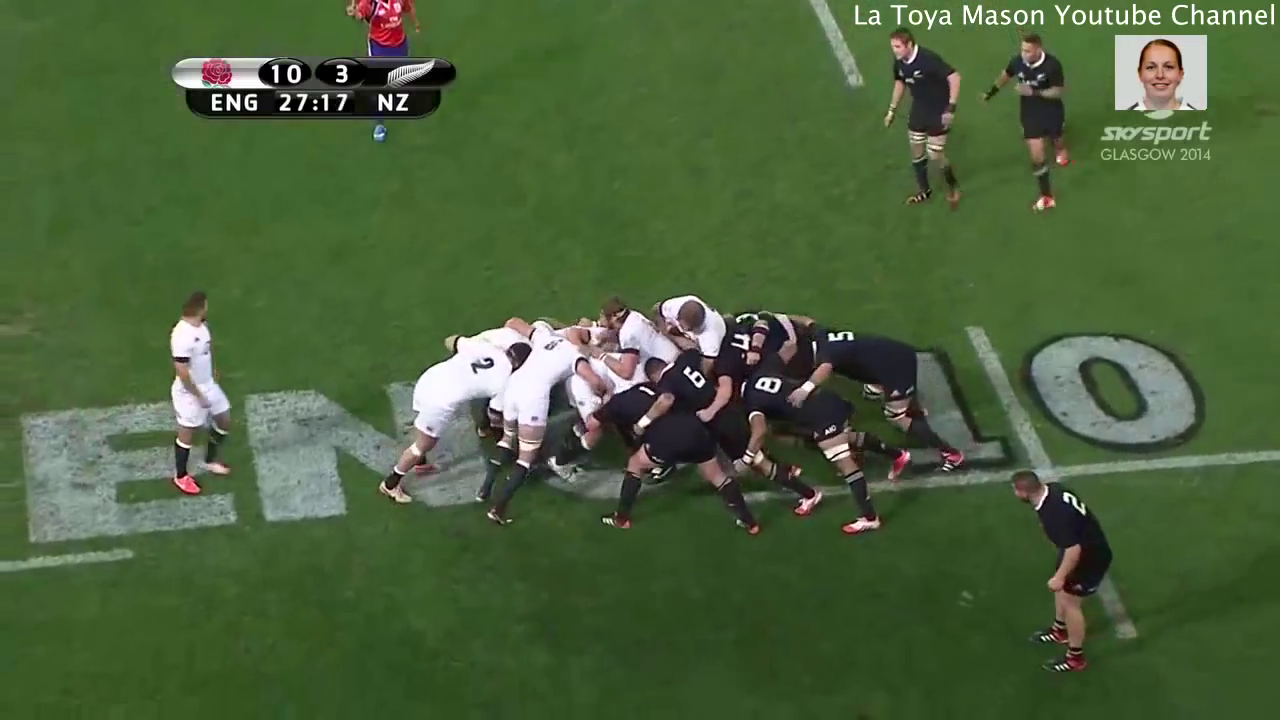player: (991, 462, 1126, 683), (809, 324, 986, 479), (964, 29, 1086, 216), (154, 283, 252, 502), (867, 28, 973, 215), (372, 340, 490, 502)
scrum: (392, 289, 985, 543)
